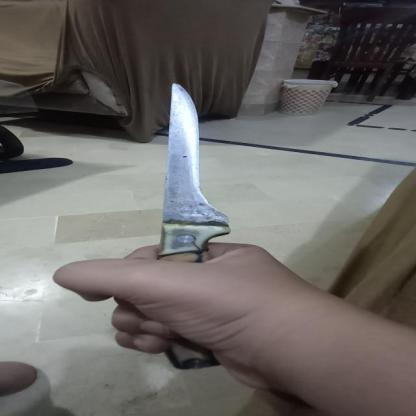Knife: (137, 75, 248, 376)
